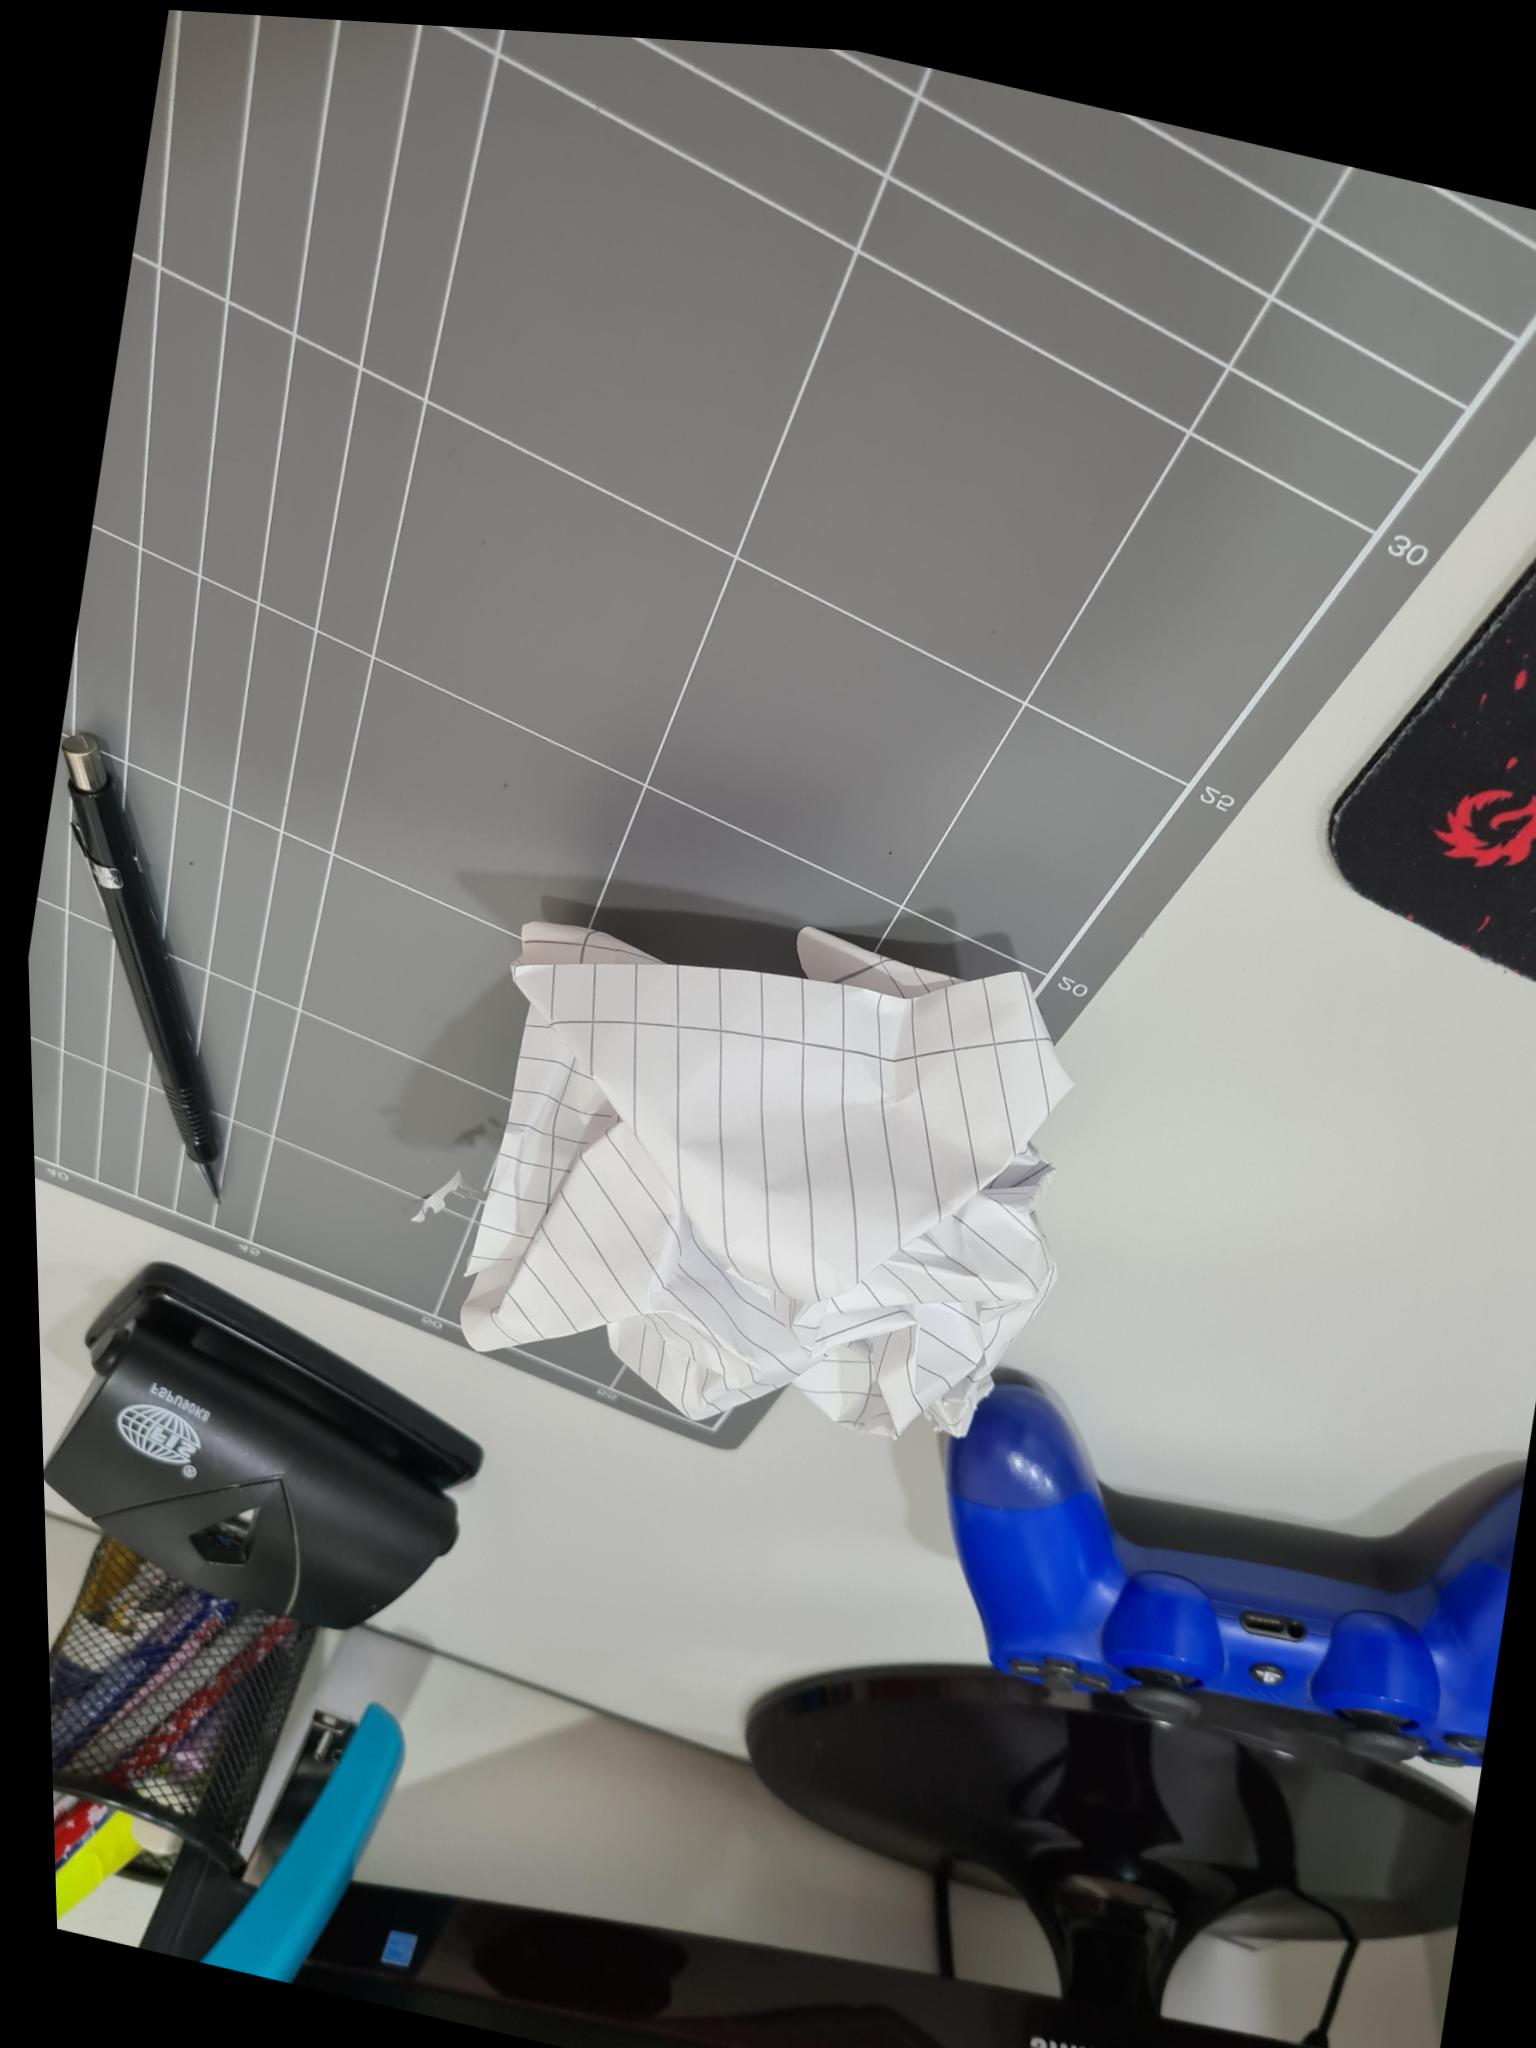paper: (463, 921, 1068, 1445)
